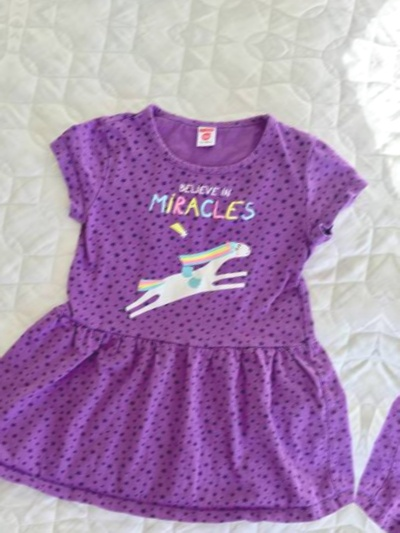Dress: (0, 84, 400, 533), (348, 143, 400, 533), (0, 23, 4, 485)
